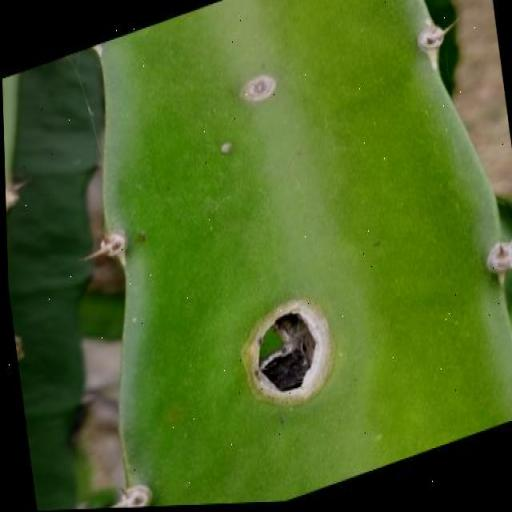stemcanker: (205, 81, 243, 116), (254, 129, 270, 151)
